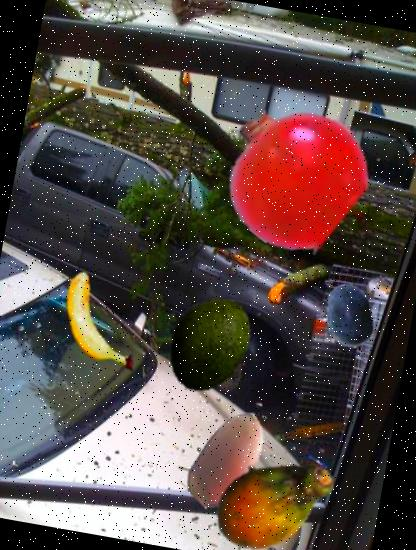Avocado: (151, 285, 267, 401)
Banana: (36, 260, 160, 385)
Blueberry: (310, 278, 386, 354)
Cactus: (204, 433, 345, 550)
Hazelnut: (168, 398, 290, 520)
Redcurrant: (210, 93, 374, 256)
